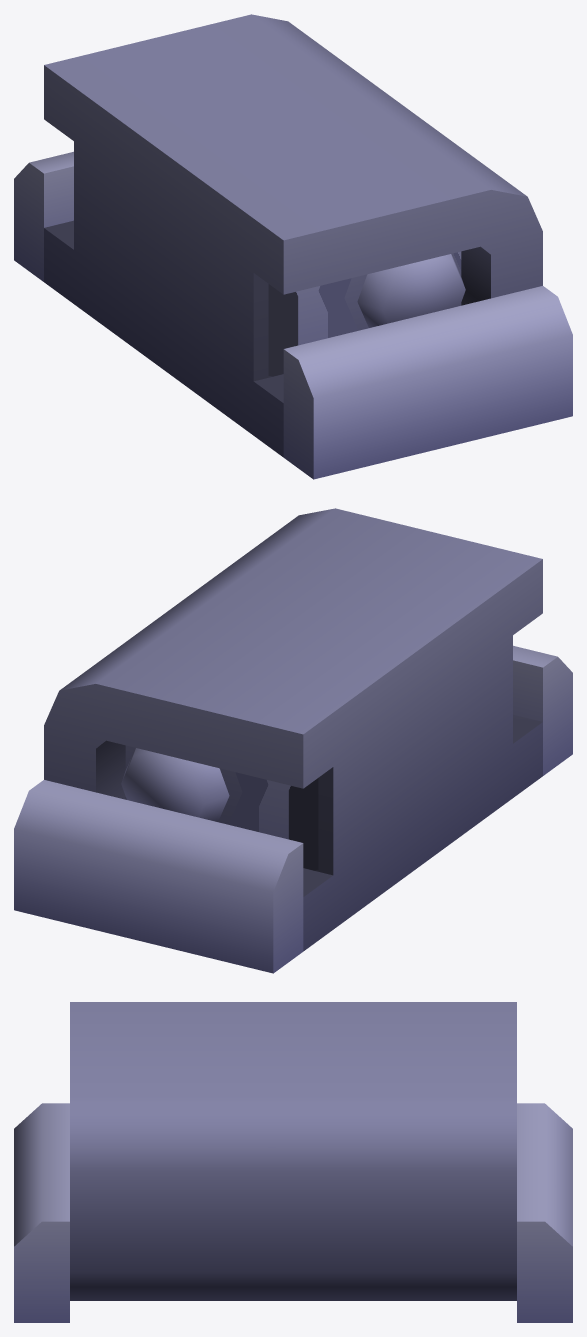
Rendered from conveyor-long-sides-part-end.glb.
3 renders of one model, top to bottom at view 1: azimuth 30°, elevation 25°; view 2: azimuth 150°, elevation 25°; view 3: azimuth 270°, elevation 25°, orthographic. The views are drawn at different scales.
Parts seen in each view (by area): view 1: conveyor-long-sides-part-end; view 2: conveyor-long-sides-part-end; view 3: conveyor-long-sides-part-end.
Part boxes in pixels (x1,y1,x2,y2): conveyor-long-sides-part-end: (14,14,572,479); conveyor-long-sides-part-end: (14,508,572,973); conveyor-long-sides-part-end: (14,1002,572,1322).
Size of the model in its own units: 0.5 by 0.4 by 1.
